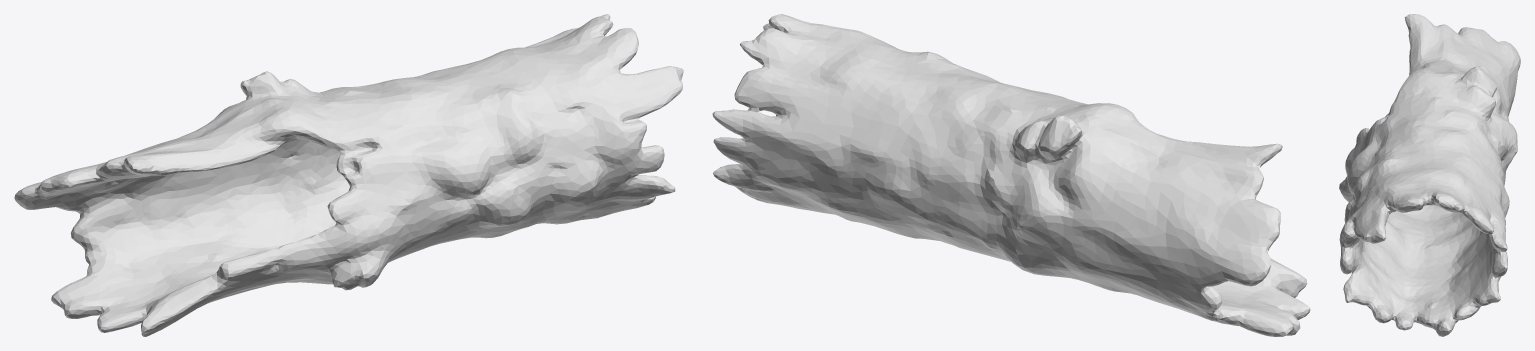
The model's file is log02.glb.
The picture shows the model from 3 angles, left to right: view 1: azimuth 30°, elevation 25°; view 2: azimuth 150°, elevation 25°; view 3: azimuth 270°, elevation 25°; orthographic projection. The views are drawn at different scales.
Visible parts, largest first — view 1: Low; view 2: Low; view 3: Low.
Part boxes in pixels (x1=…): Low: x1=14, y1=14, x2=683, y2=336; Low: x1=712, y1=14, x2=1310, y2=336; Low: x1=1339, y1=14, x2=1520, y2=336.
Bounding box in the file's own units: 1.98 × 0.5921 × 0.6755.
1 material, 1 textured.
